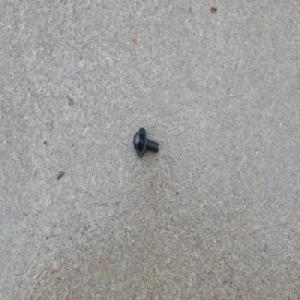BoltWasher: (133, 126, 160, 158)
